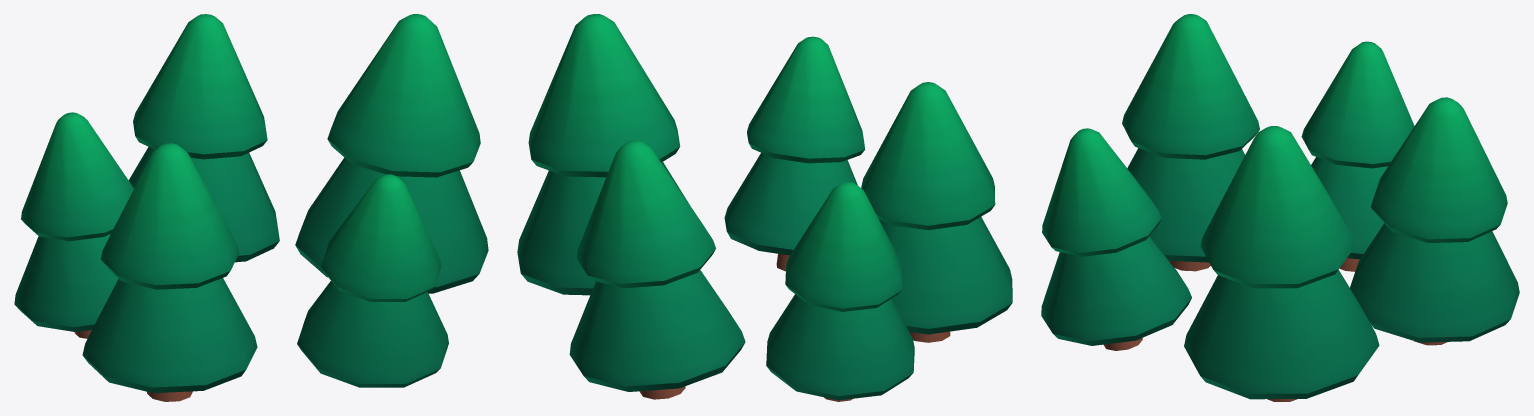
The model's file is kay-arvores-medias.gltf.
3 renders of one model, left to right at view 1: azimuth 30°, elevation 25°; view 2: azimuth 150°, elevation 25°; view 3: azimuth 270°, elevation 25°, orthographic.
Parts seen in each view (by area): view 1: trees_B_medium; view 2: trees_B_medium; view 3: trees_B_medium.
Part boxes in pixels (x1,y1,x2,y2): trees_B_medium: (14, 14, 488, 401); trees_B_medium: (517, 14, 1012, 401); trees_B_medium: (1041, 14, 1519, 401).
Size of the model in its own units: 9.32 by 5.87 by 9.17.
1 material, 1 textured.
